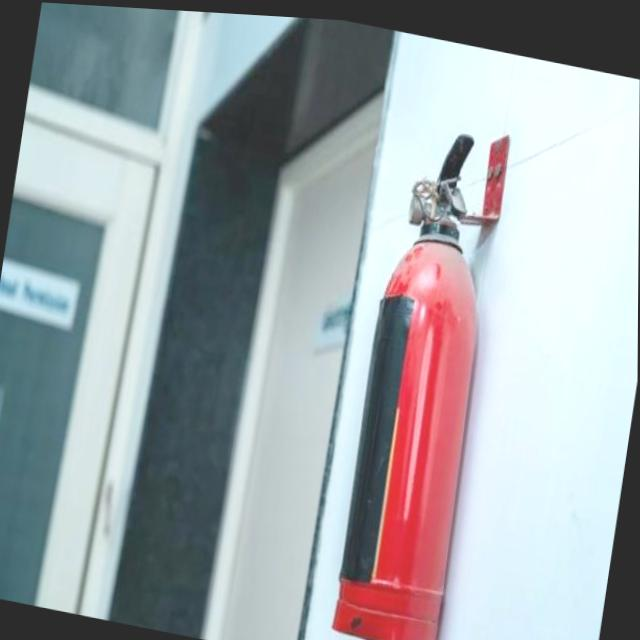FireExtinguisher: (322, 106, 516, 640)
